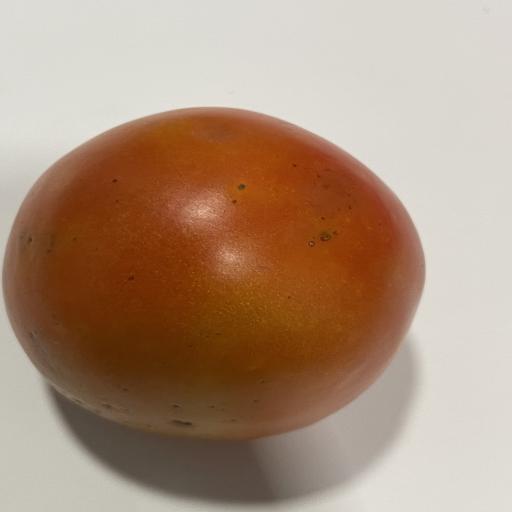ripe: (3, 108, 425, 439)
